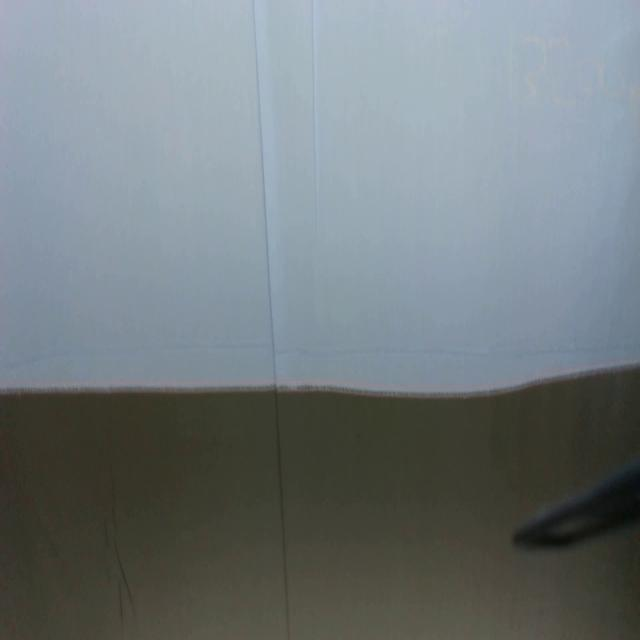crease: (251, 1, 291, 640), (308, 0, 320, 239)
